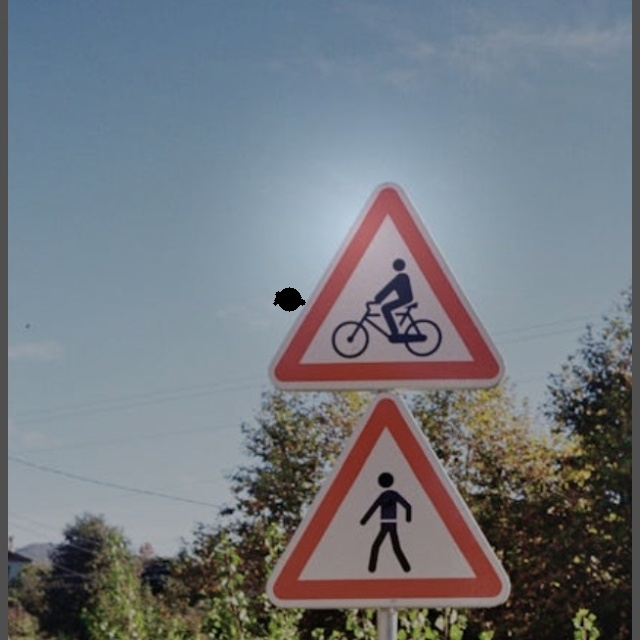Cycle_Crossing: (268, 183, 502, 386)
